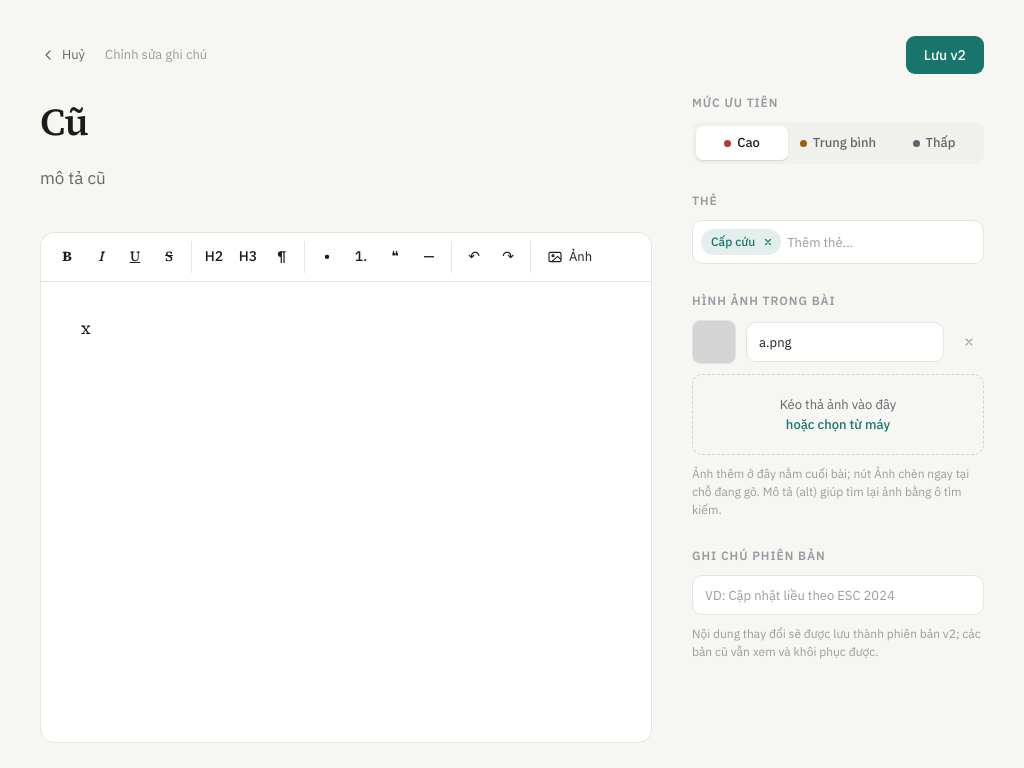
Test: EditorClient › keeps the user on the page and toasts when the save fails
Click the button "Lưu v2": (945, 55) [906,36,984,74]
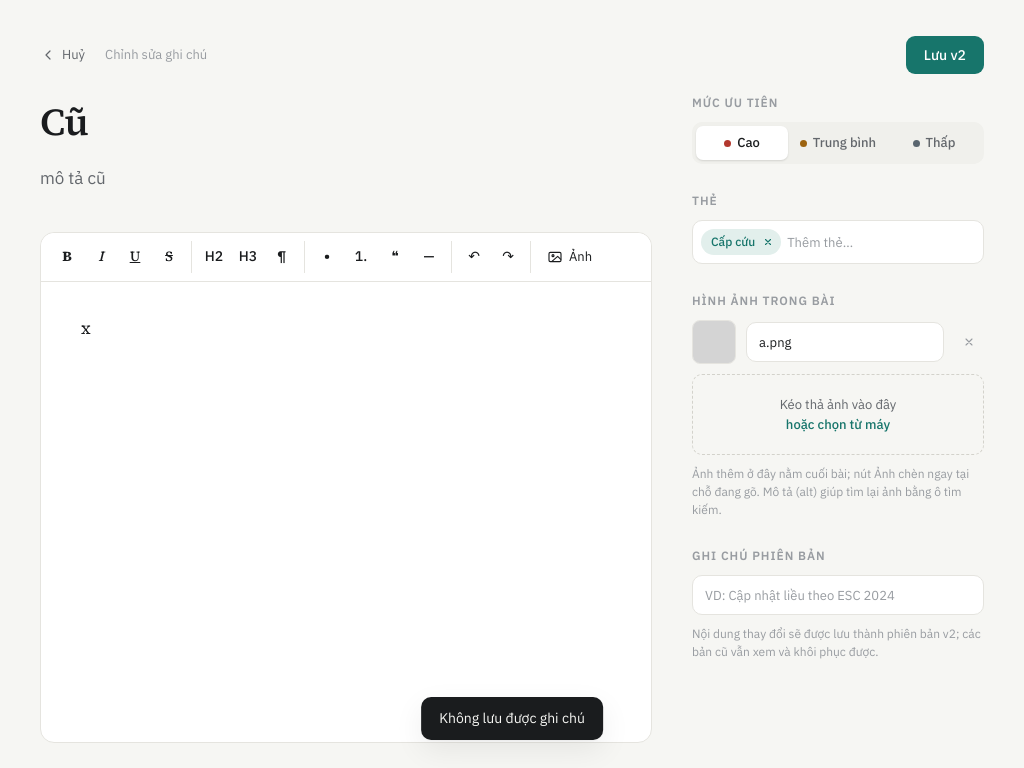
Expected: the text "Không lưu được ghi chú" is shown, [421,697,603,740]
